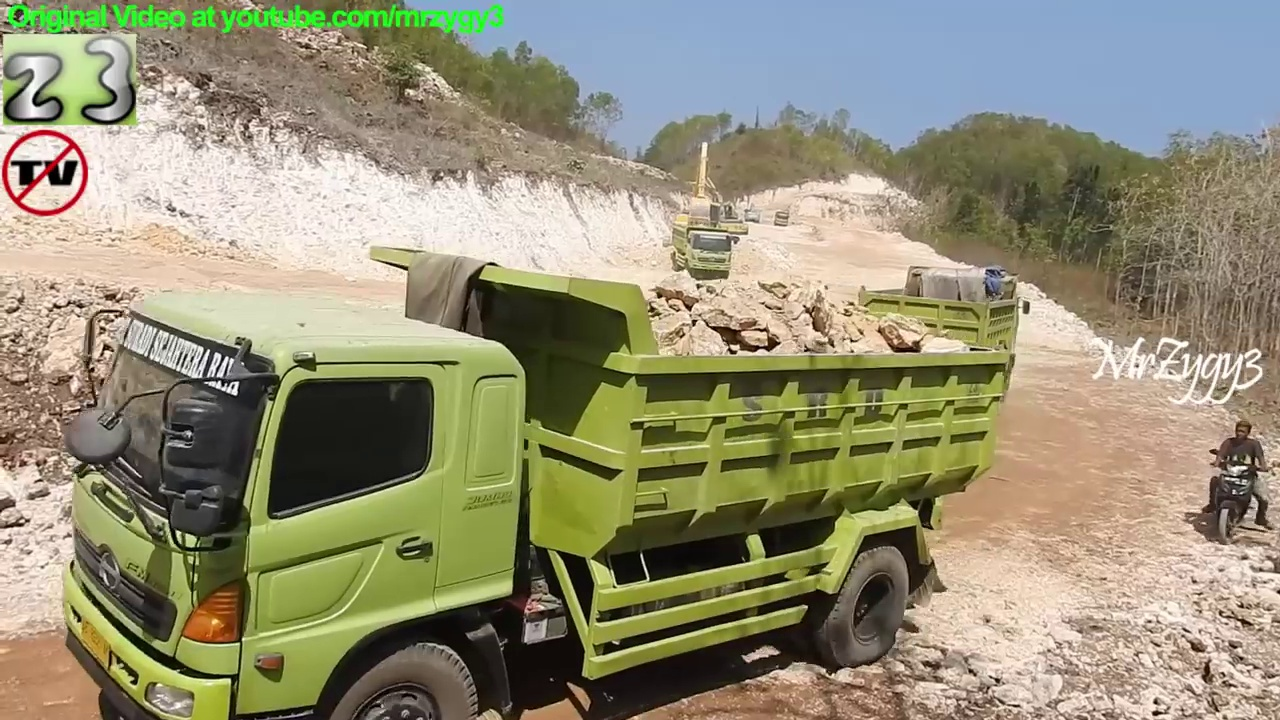excavator: (681, 137, 729, 241), (692, 168, 750, 240), (741, 199, 762, 228)
truck: (54, 243, 1019, 720), (854, 261, 1037, 393), (667, 223, 741, 282), (772, 207, 793, 228)
